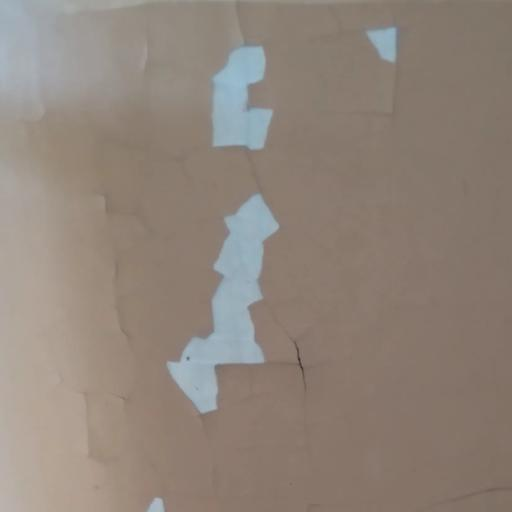peeling: (161, 190, 324, 432), (195, 26, 306, 178), (79, 171, 158, 364), (356, 26, 408, 73), (129, 484, 188, 512)
